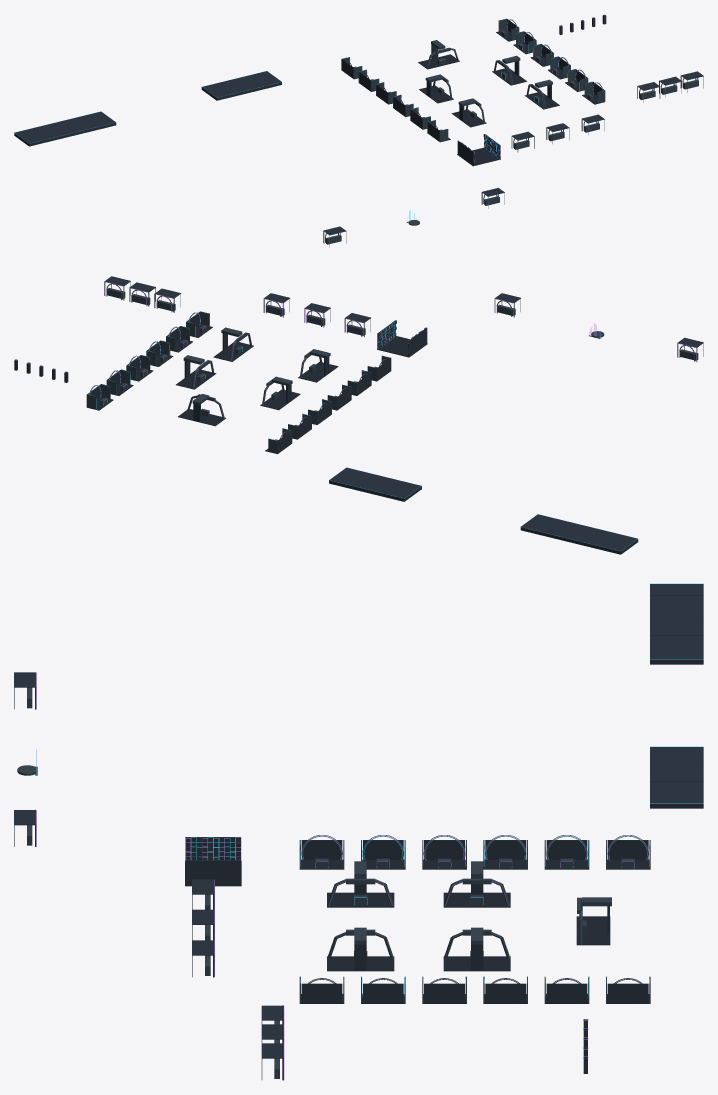
Rendered from credicorp-completo.glb.
3 views of the same model, one above another, from view 1: azimuth 30°, elevation 25°; view 2: azimuth 150°, elevation 25°; view 3: azimuth 270°, elevation 25° (orthographic). The views are drawn at different scales.
Parts seen in each view (by area): view 1: structure (×12); view 2: structure (×14); view 3: structure (×20).
Boxes of the visible parts, x1,y1,x2,y2 form: structure (×12): (14, 18, 605, 166); structure (×14): (86, 311, 638, 554); structure (×20): (185, 584, 703, 1003).
Bounding box in the file's own units: 104 × 3.19 × 61.71.
